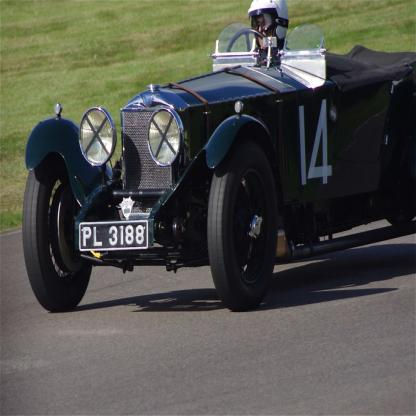Helmet: (247, 0, 290, 53)
